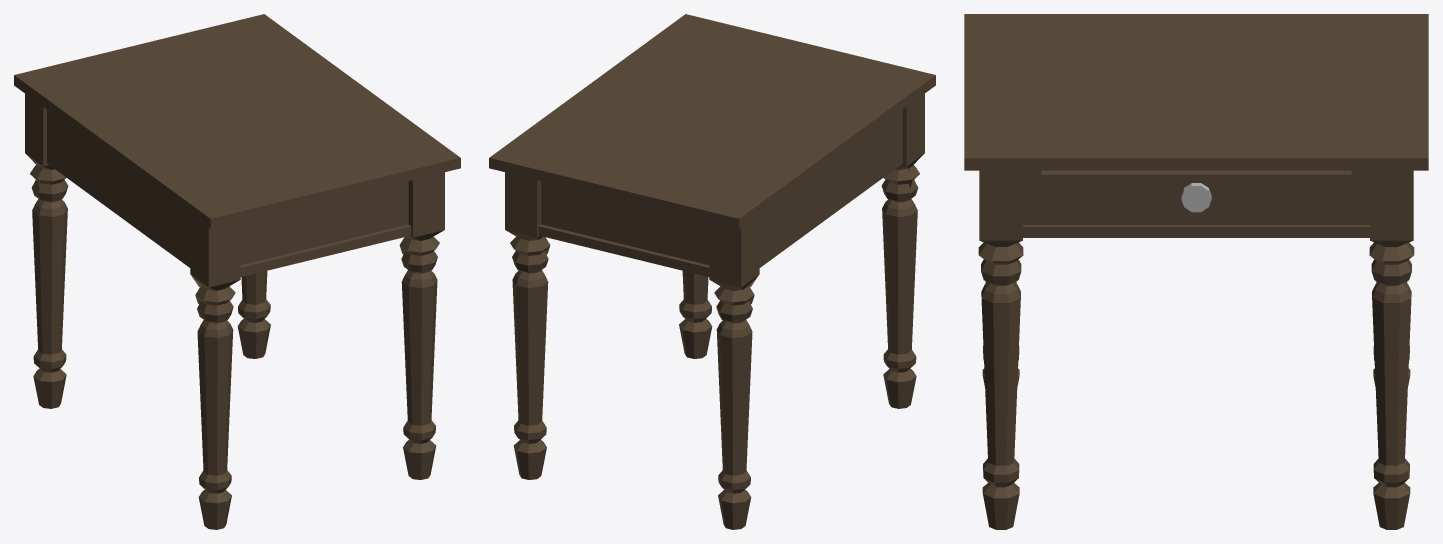
File: SM_Table_02.glb
The picture shows the model from 3 angles, left to right: view 1: azimuth 30°, elevation 25°; view 2: azimuth 150°, elevation 25°; view 3: azimuth 270°, elevation 25°; orthographic projection. The views are drawn at different scales.
Visible parts, largest first — view 1: SM_Table_02; view 2: SM_Table_02; view 3: SM_Table_02.
Boxes of the visible parts, box(x1,y1,x2,y2) form: SM_Table_02: box(14, 14, 460, 529); SM_Table_02: box(489, 14, 935, 529); SM_Table_02: box(964, 14, 1428, 529).
Bounding box in the file's own units: 0.5242 × 0.636 × 0.7019.
1 material, 1 textured.
